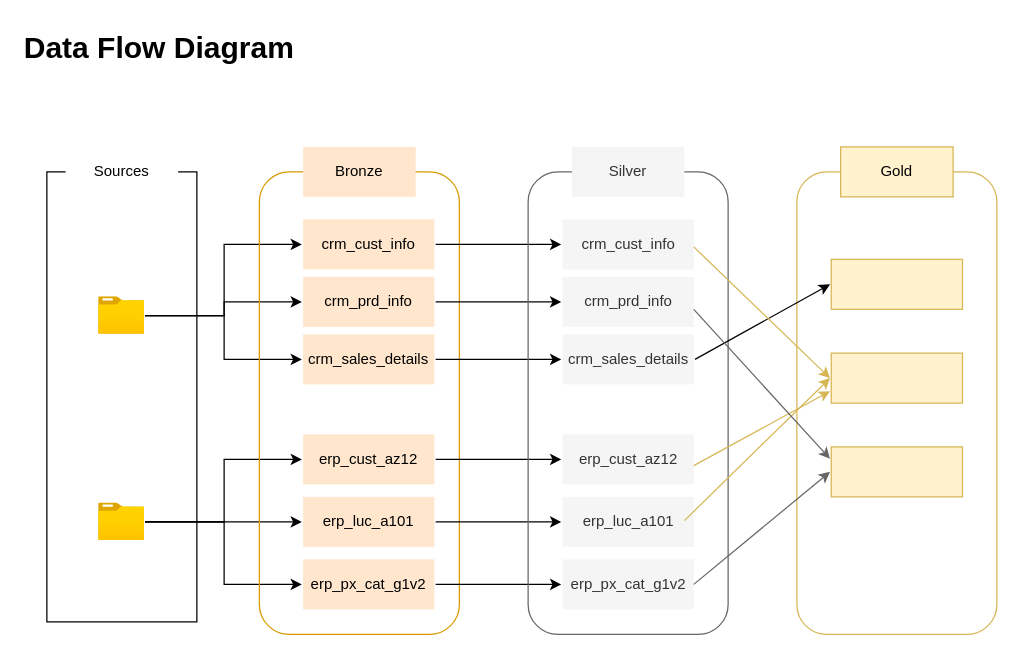
Some shapes in this 1019 by 656 pixel diagram are drawn without their labels. The centre of each missing label's shape, as x and y in pixels:
CRM: [121,315]
dim_customers: [896,377]
dim_products: [896,471]
ERP: [121,521]
fact_sales: [896,283]
